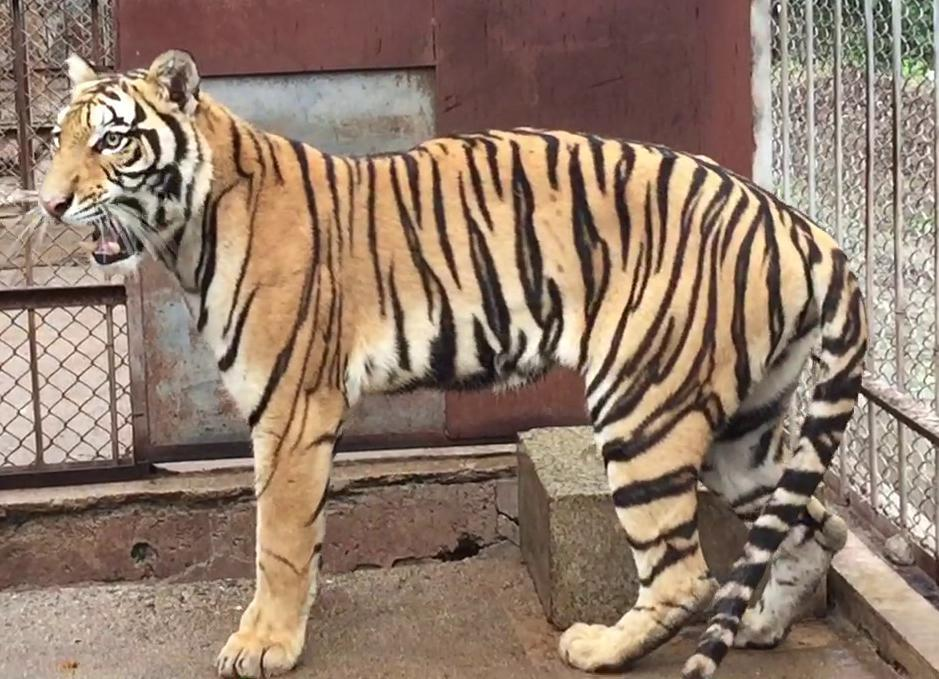tiger: (39, 50, 866, 678)
